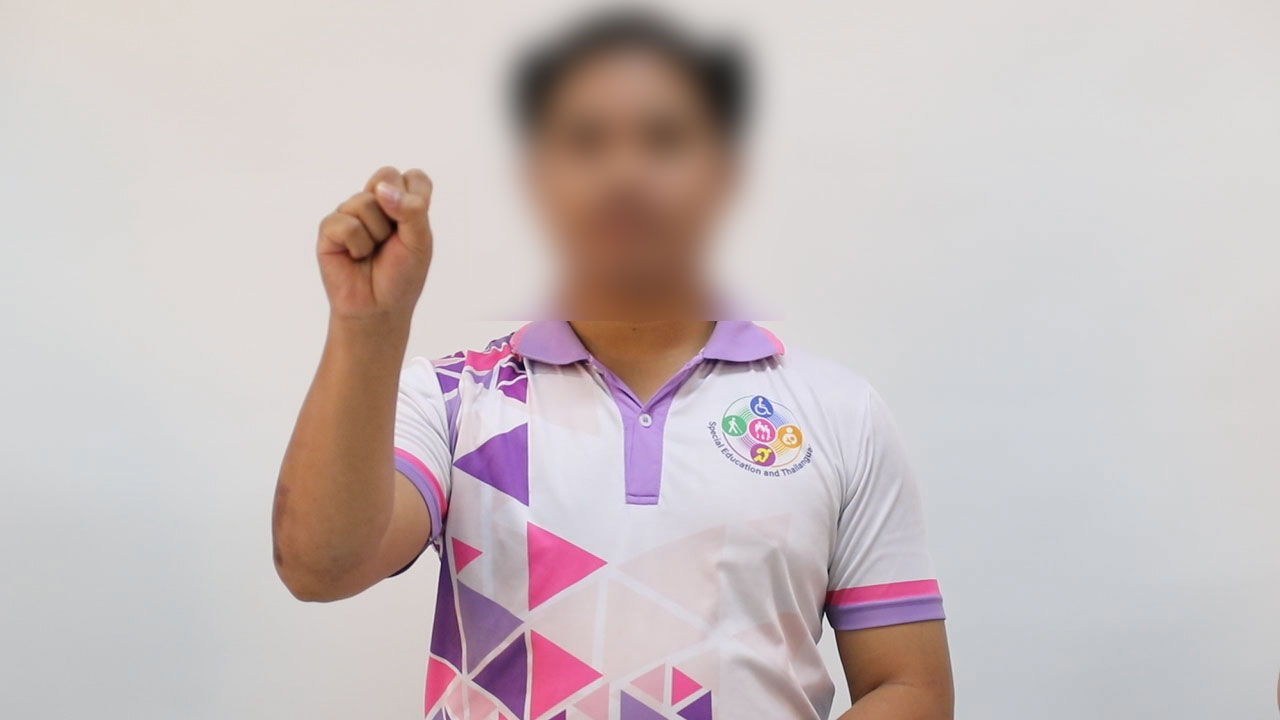sor: (310, 151, 449, 324)
